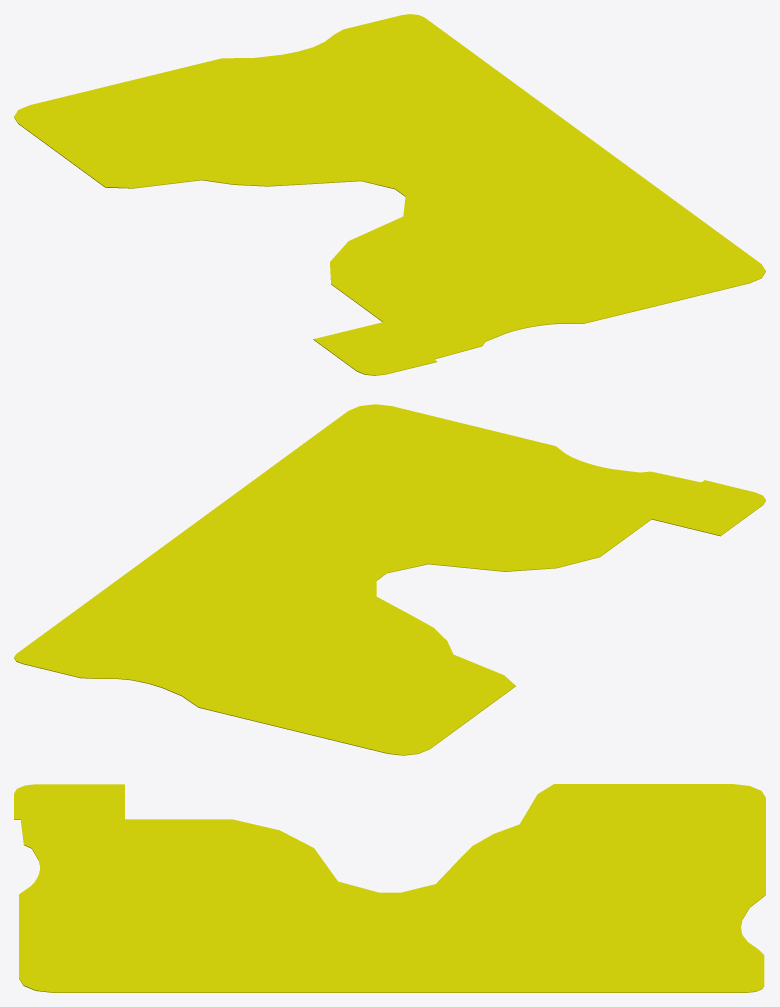
Rendered from sm_hana_building_10f_ceiling.glb.
3 renders of one model, top to bottom at view 1: azimuth 30°, elevation 25°; view 2: azimuth 150°, elevation 25°; view 3: azimuth 270°, elevation 25°, orthographic. The views are drawn at different scales.
Visible parts, largest first — view 1: sm_hana_building_10f_ceiling; view 2: sm_hana_building_10f_ceiling; view 3: sm_hana_building_10f_ceiling.
Part boxes in pixels (x1,y1,x2,y2): sm_hana_building_10f_ceiling: (14,14,765,375); sm_hana_building_10f_ceiling: (14,404,765,755); sm_hana_building_10f_ceiling: (14,784,765,992).
Size of the model in its own units: 64.75 by 0.1026 by 98.9.
1 material, 1 textured.
